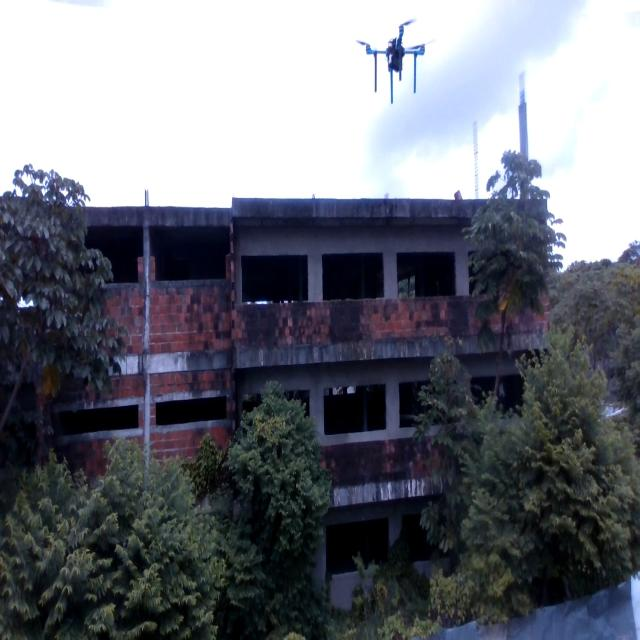-uav-: (355, 12, 438, 104)
